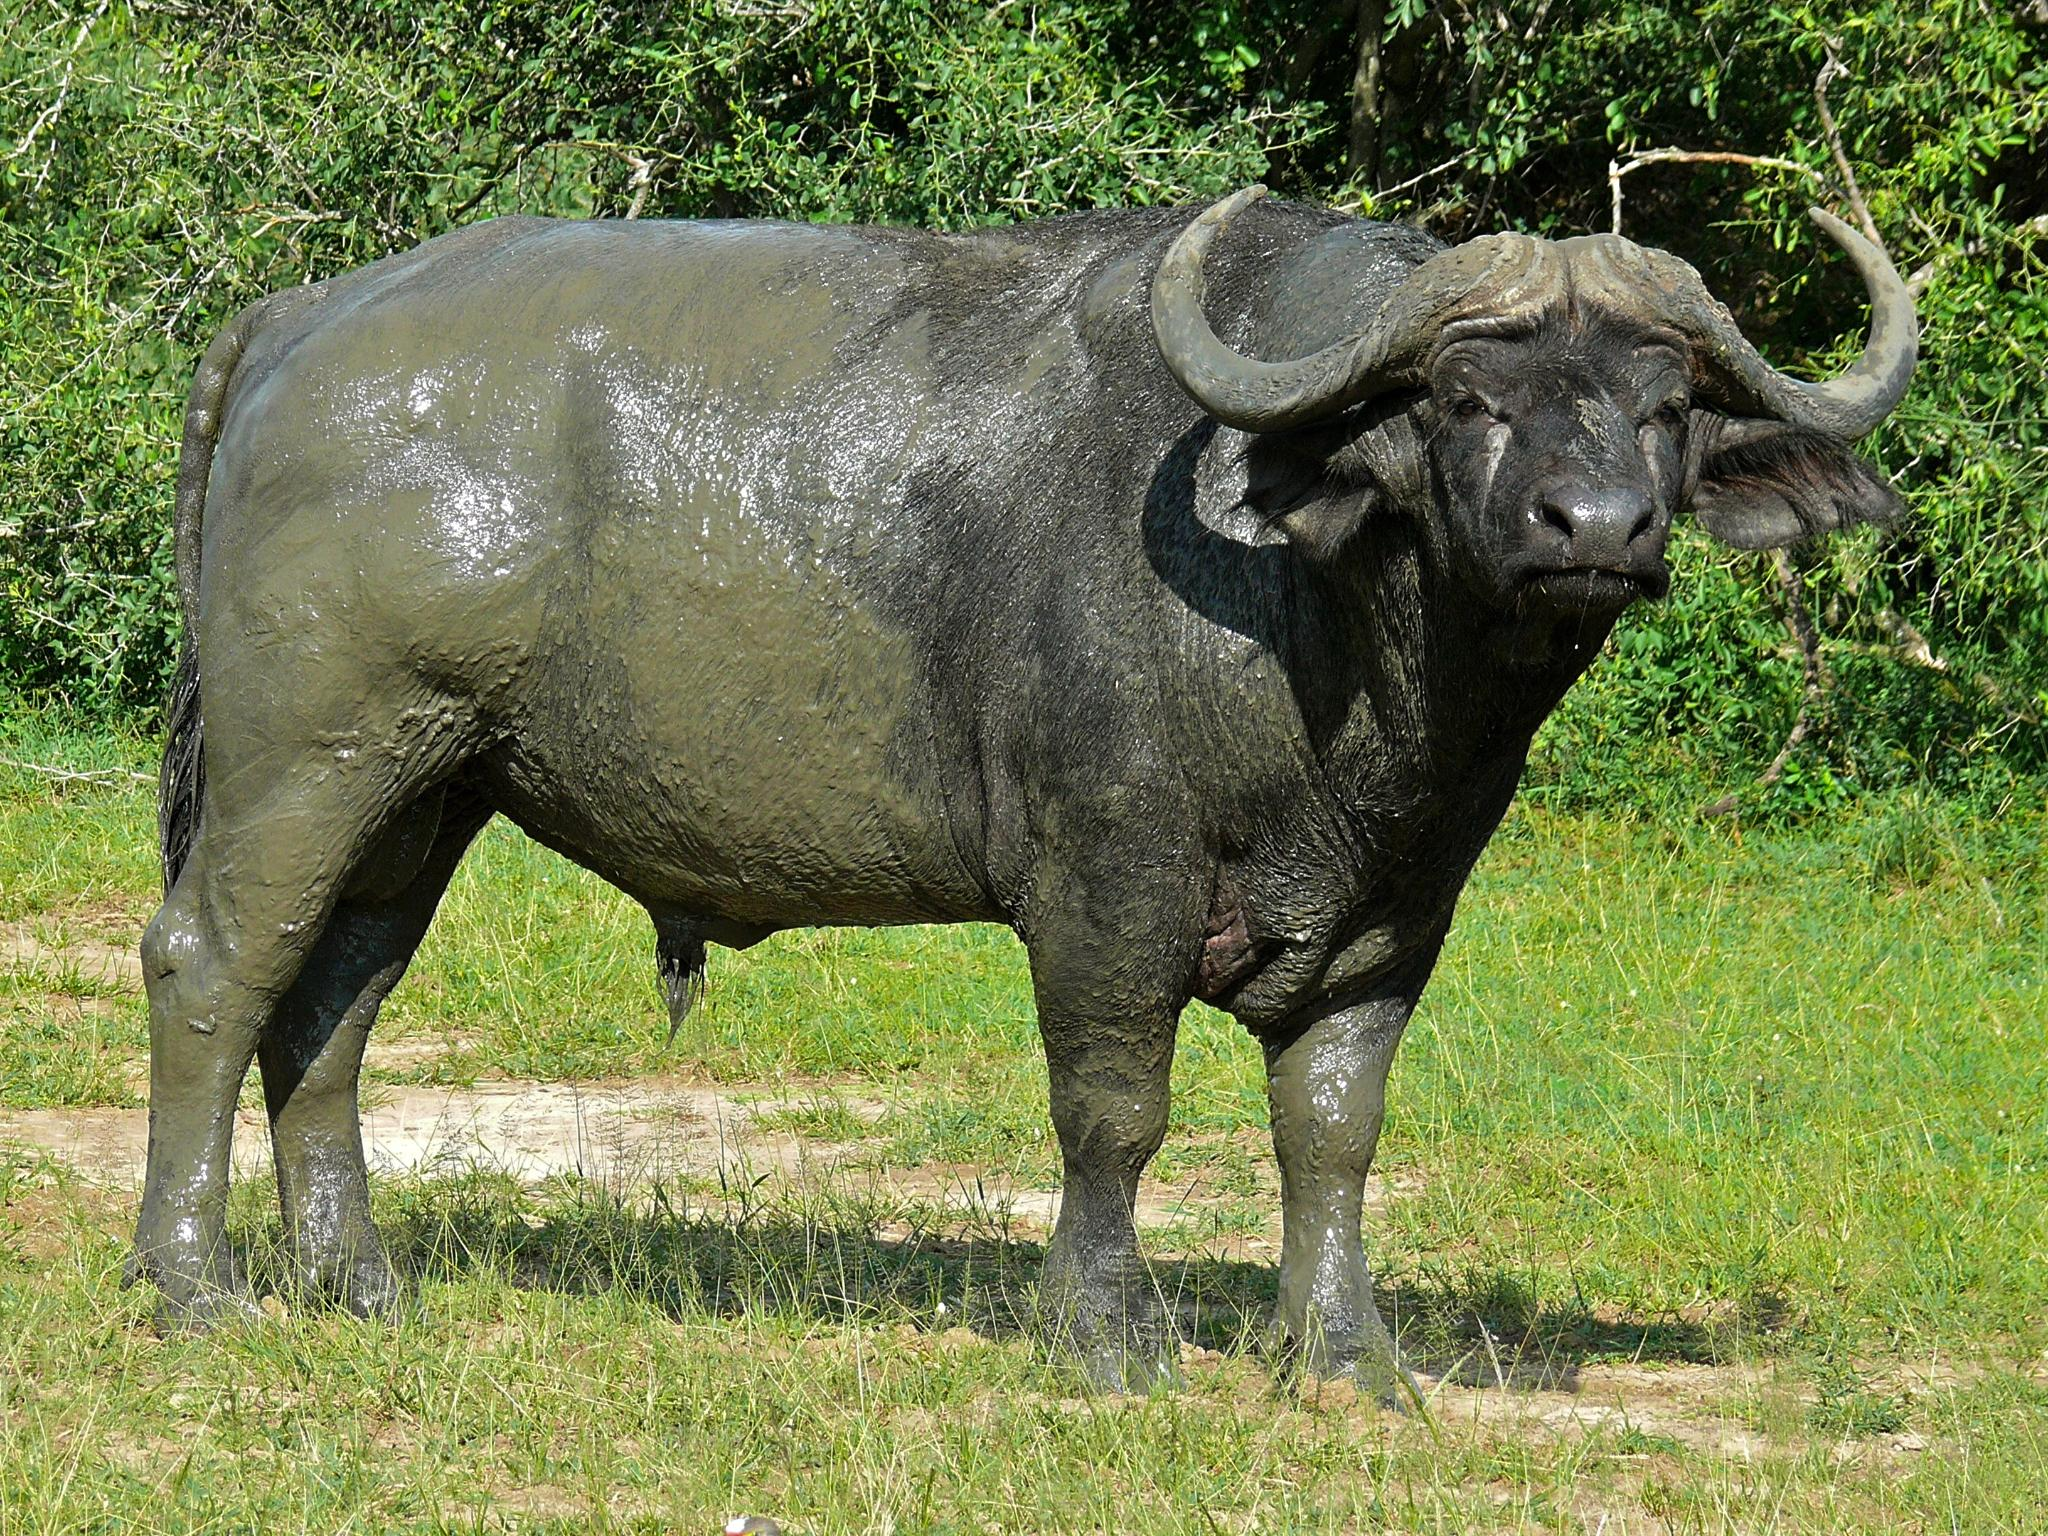Buffalo: (135, 0, 1938, 1536)
